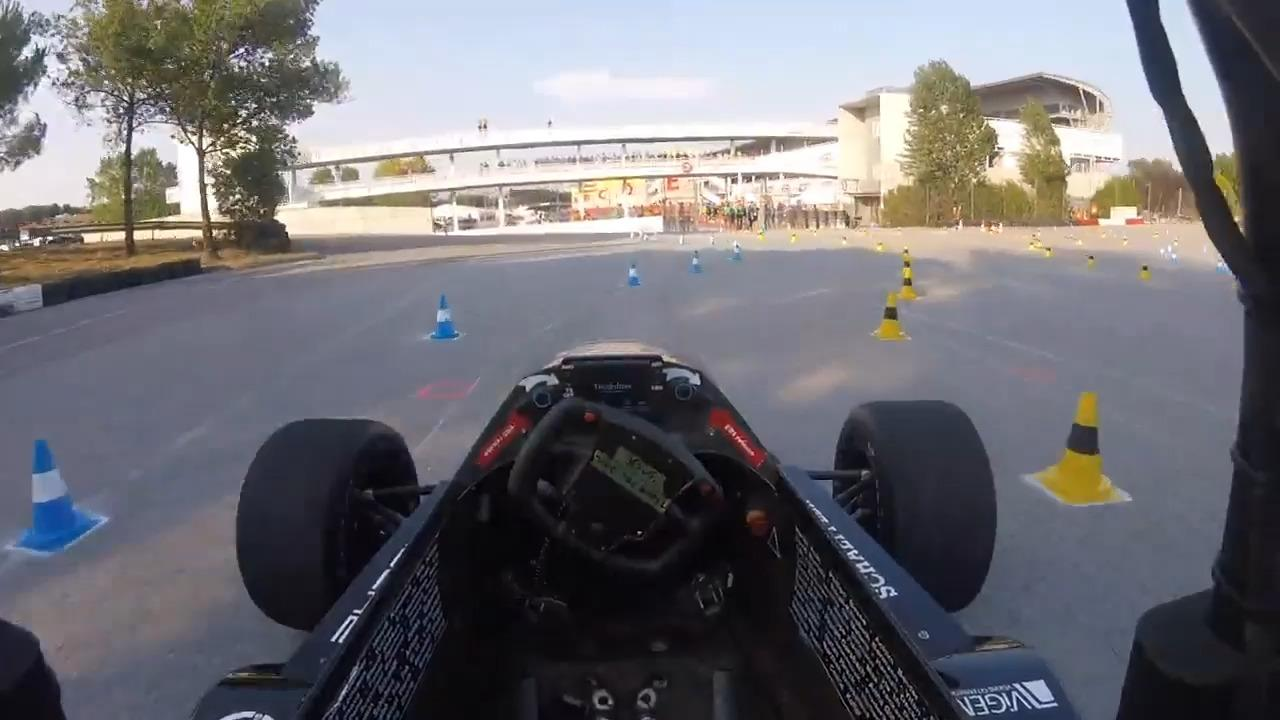blue_cone: (9, 440, 99, 558), (429, 294, 465, 344), (685, 250, 706, 278), (627, 262, 643, 288), (733, 245, 747, 264), (1217, 261, 1228, 276), (1170, 251, 1180, 265), (1161, 248, 1170, 259), (1167, 244, 1174, 253)
yellow_cone: (1033, 387, 1117, 513), (874, 293, 906, 341), (898, 273, 920, 302), (1138, 261, 1151, 280), (901, 257, 913, 273), (875, 239, 886, 255), (1087, 253, 1097, 268), (1044, 245, 1054, 259), (902, 244, 911, 258), (758, 229, 766, 242), (790, 233, 798, 245), (1122, 233, 1129, 246), (812, 228, 819, 238), (1029, 240, 1035, 251), (842, 235, 848, 246), (1036, 240, 1042, 250)
